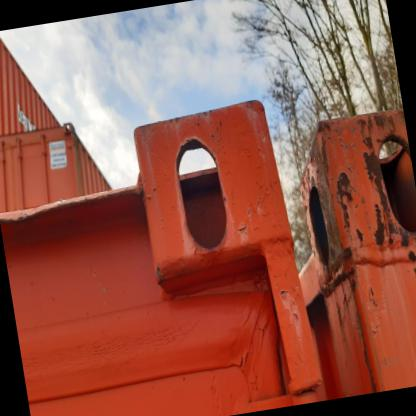CornerCasting: (123, 96, 299, 276), (288, 105, 415, 299)
